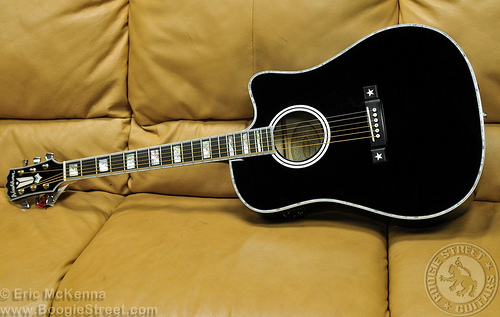guitar: (4, 28, 486, 239)
